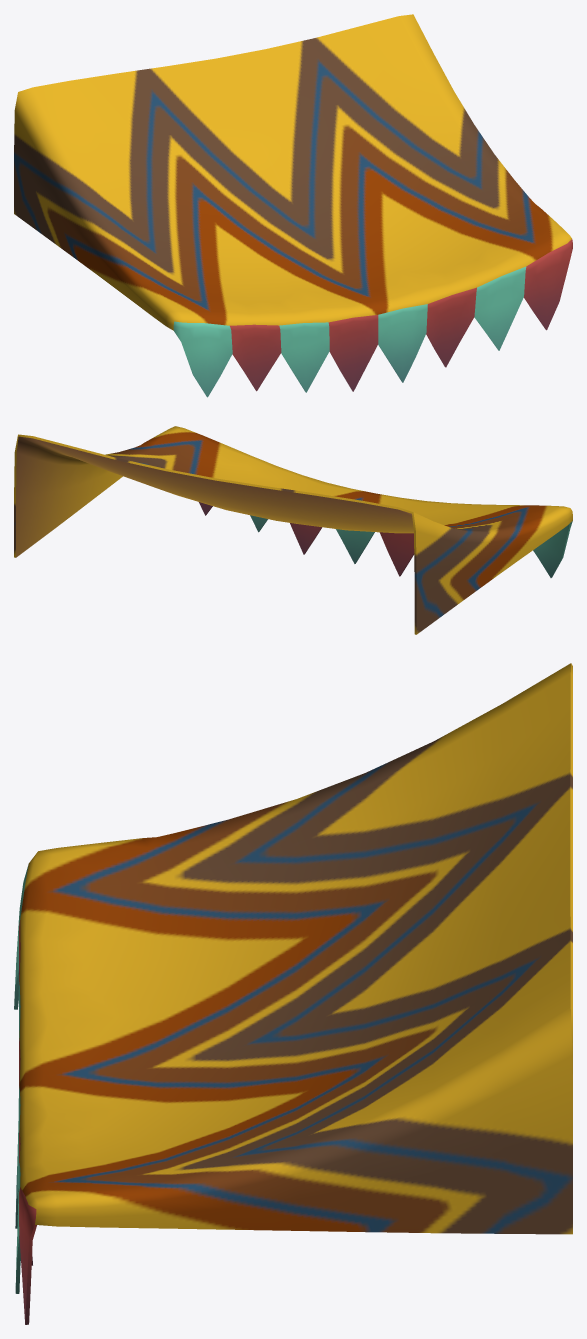
File: M_Store_Triangle_02.fbx
The picture shows the model from 3 angles, top to bottom: view 1: azimuth 30°, elevation 25°; view 2: azimuth 150°, elevation 25°; view 3: azimuth 270°, elevation 25°; orthographic projection. The views are drawn at different scales.
Visible parts, largest first — view 1: Store_Triangle_02; view 2: Store_Triangle_02; view 3: Store_Triangle_02.
Boxes of the visible parts, x1=… form: Store_Triangle_02: x1=14, y1=14, x2=572, y2=397; Store_Triangle_02: x1=14, y1=426, x2=572, y2=634; Store_Triangle_02: x1=14, y1=663, x2=572, y2=1324.
Size of the model in its own units: 6.06 by 4.3 by 3.26.
Materials: 1 (1 with a texture image).
